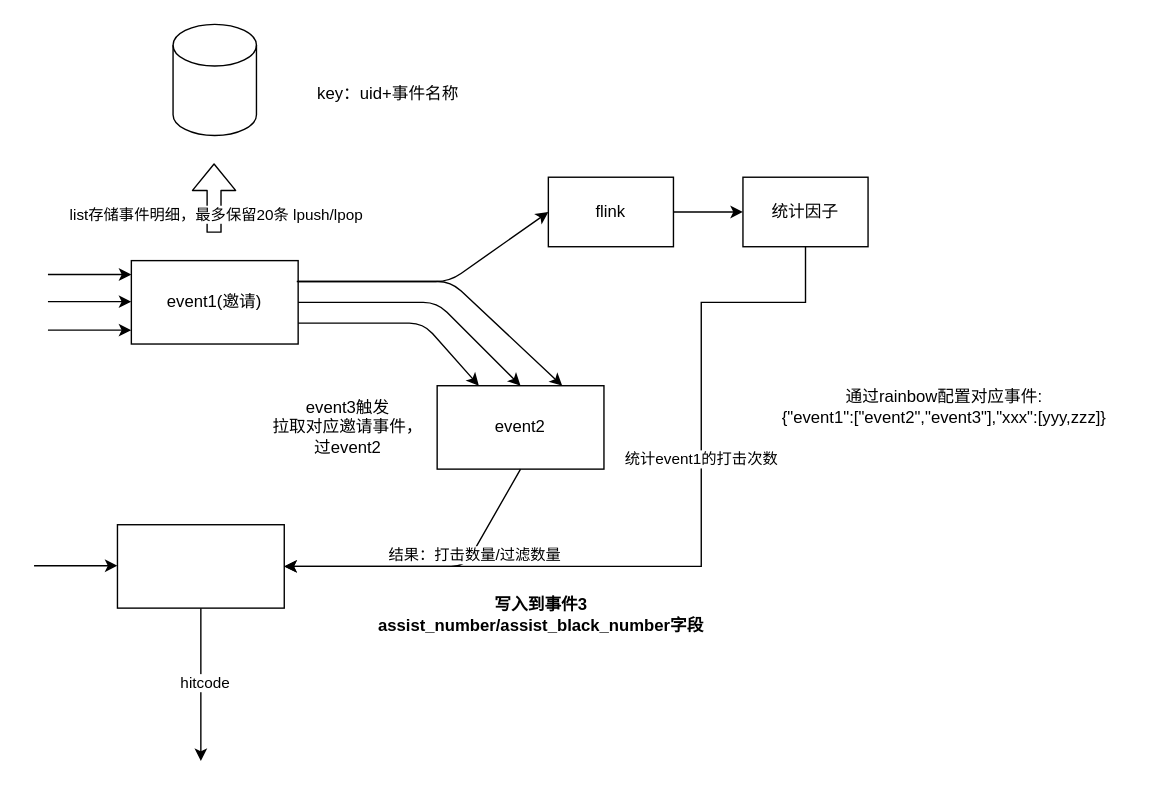
This 1170x796 diagram has some shape labels left out. Each missing label, with the box of its shape:
event3(提现): (116, 523, 284, 608)
Redis: (172, 23, 256, 136)
